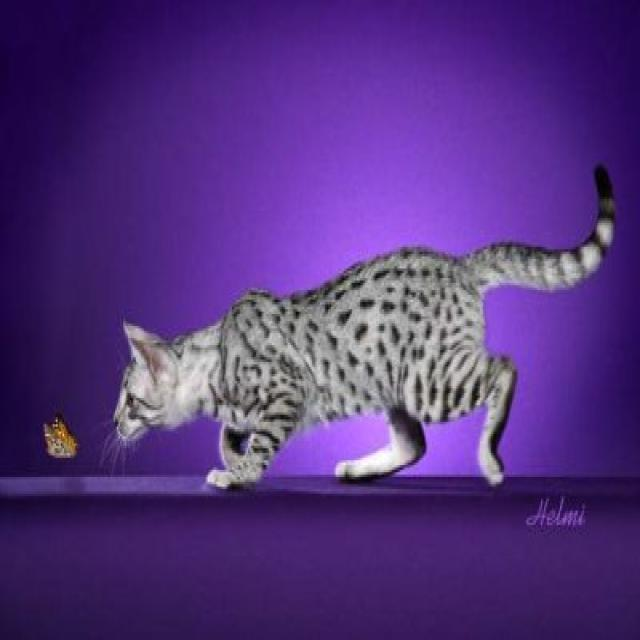Egyptian_Mau: (107, 319, 201, 461)
